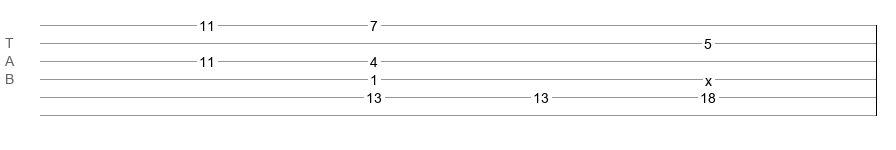1: (370, 72, 378, 82)
11: (199, 54, 215, 64), (199, 18, 215, 28)
13: (366, 90, 382, 100), (533, 90, 549, 100)
18: (700, 90, 716, 100)
4: (370, 54, 378, 64)
5: (704, 36, 712, 46)
7: (370, 18, 378, 28)
x: (705, 73, 712, 81)
